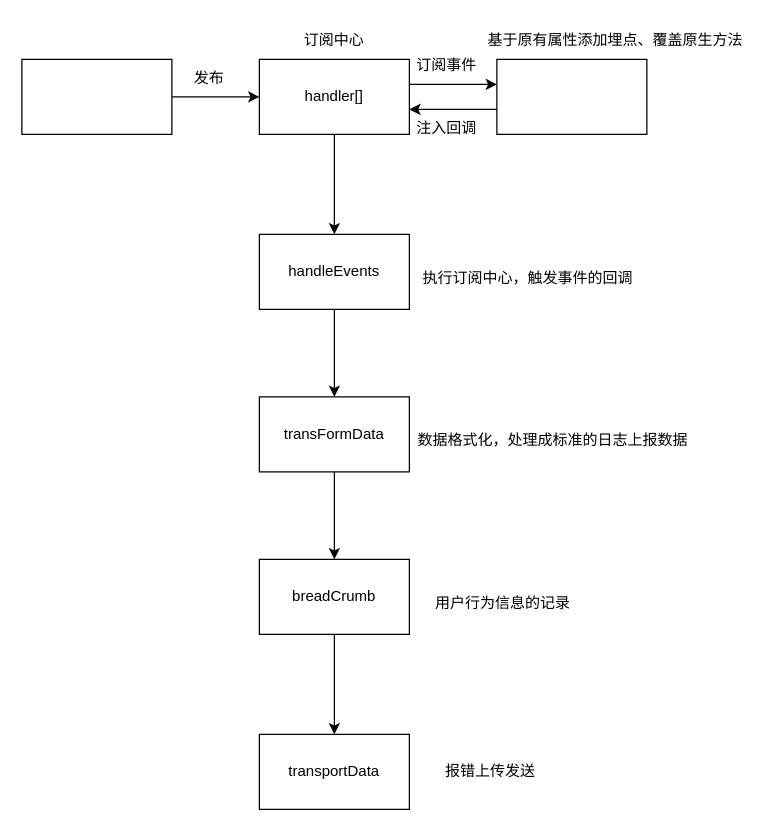
Image size: 769x831. Some labels were removed from this diagram. Here are the shapes that lost their labels. From the top down, the box of each, then its label:
(21, 58, 172, 134): 创建监听事件 triggerHandler
(496, 58, 647, 134): replaceHandler
